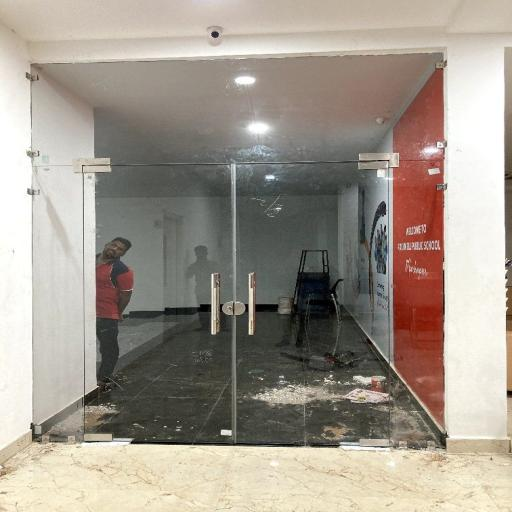corridor: (84, 162, 389, 444), (236, 162, 390, 445), (84, 165, 233, 442)
elevator: (26, 43, 462, 455)
